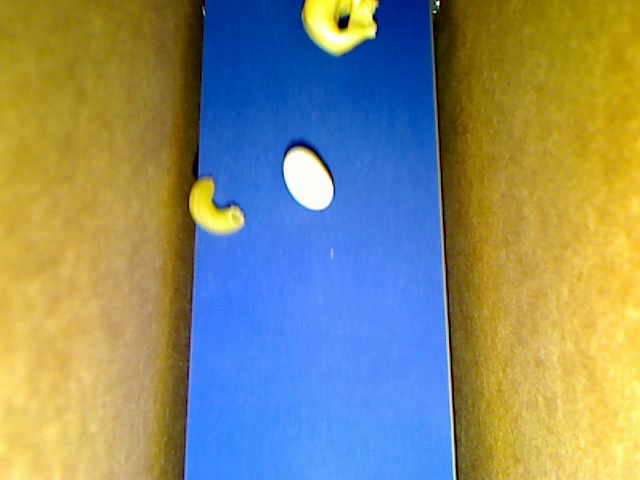elbow: (189, 176, 244, 236)
tortellini: (300, 1, 379, 59)
